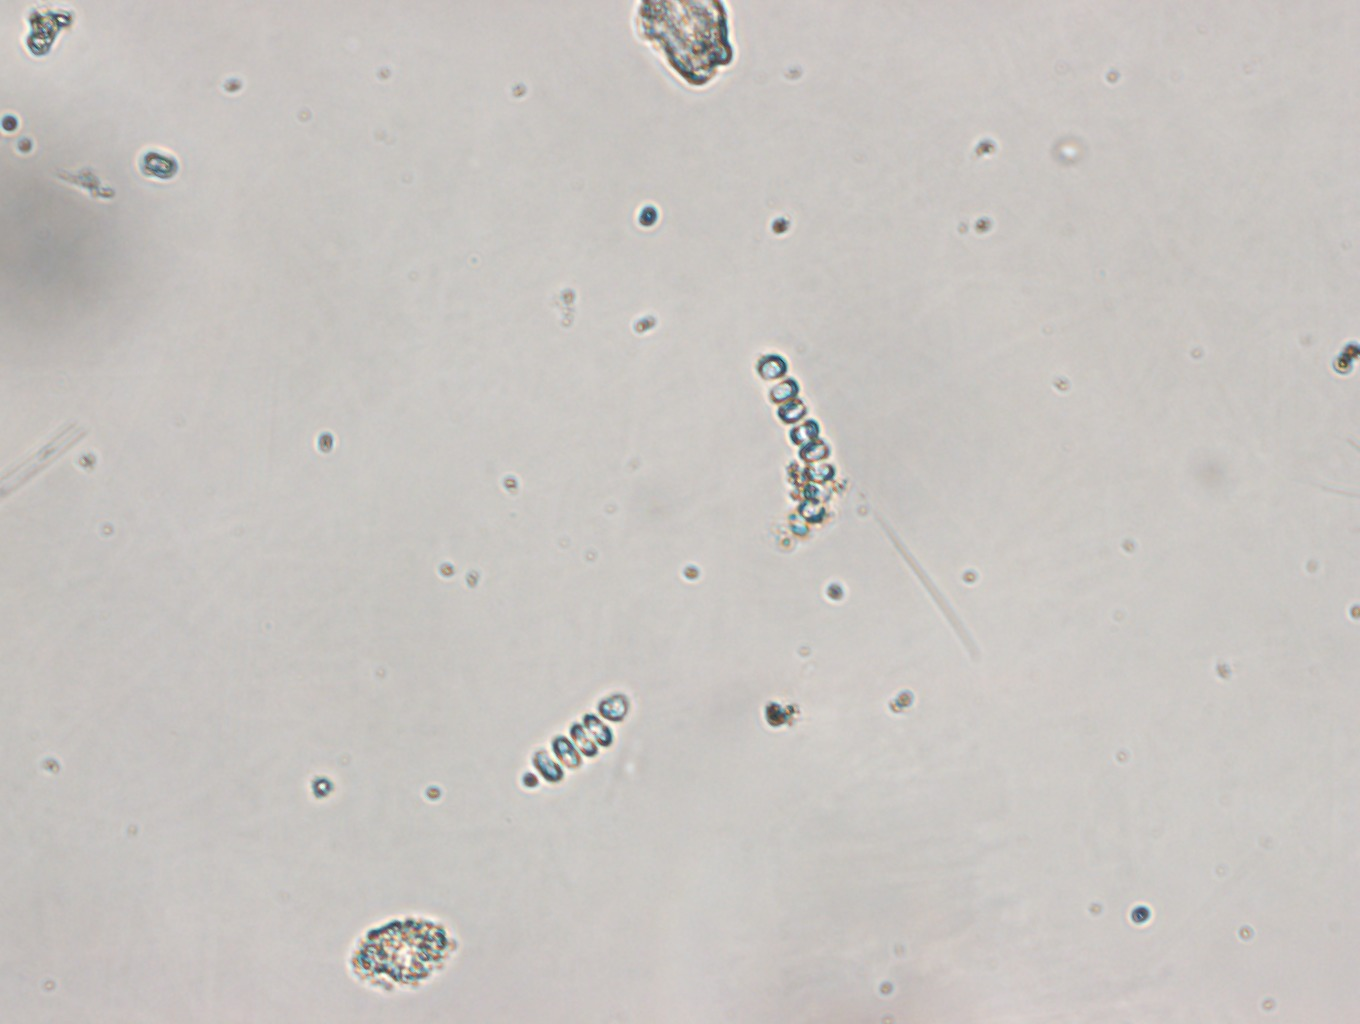skeletonema: (750, 349, 838, 551), (515, 692, 630, 792)
